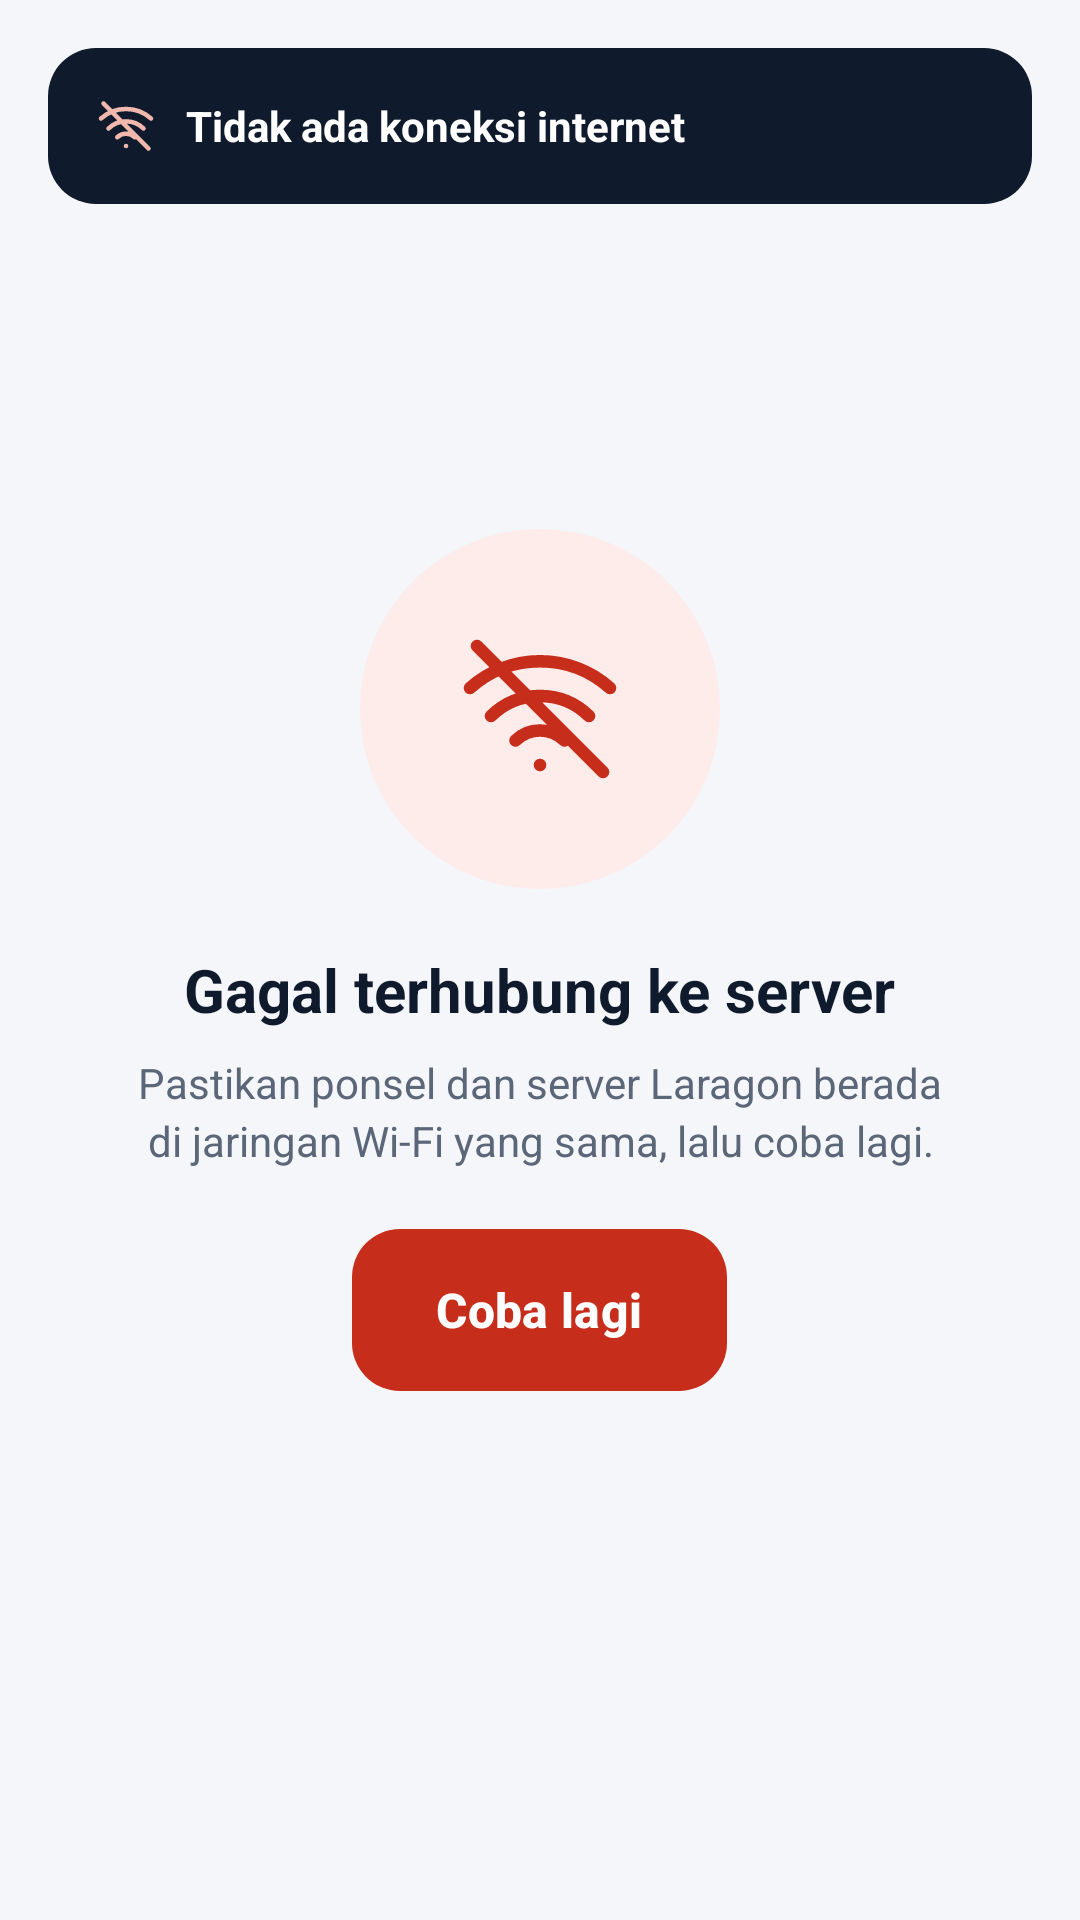

Icon click points for this 1080 × 1920 phone screenshot, format [x,y]:
wifi off: [126,126], [540,709]
